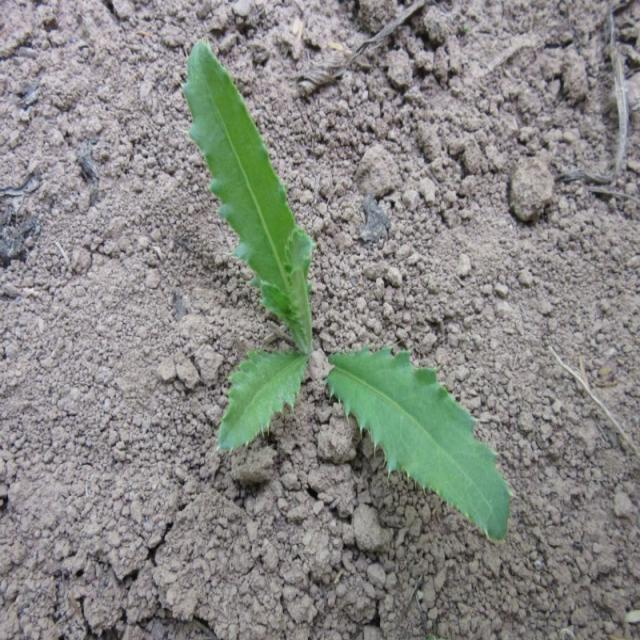field_thistle: (176, 35, 504, 523)
